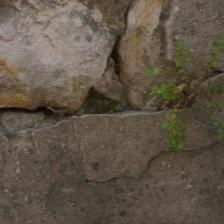Crack: (3, 102, 179, 139), (94, 141, 223, 183), (78, 38, 135, 114)
